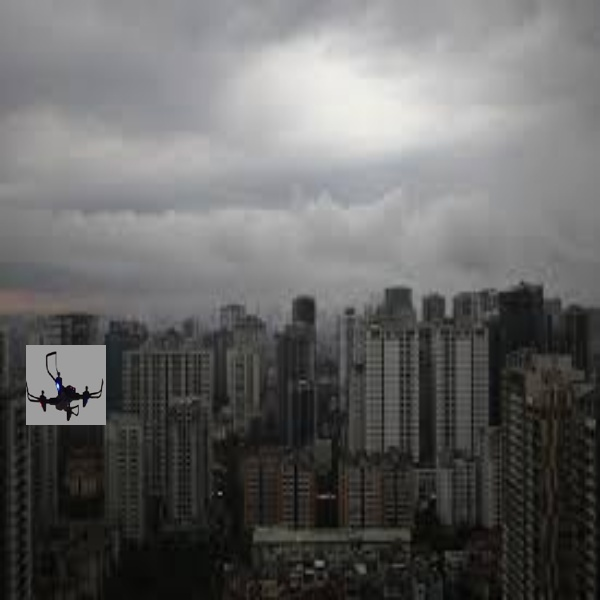drone: (26, 346, 105, 424)
